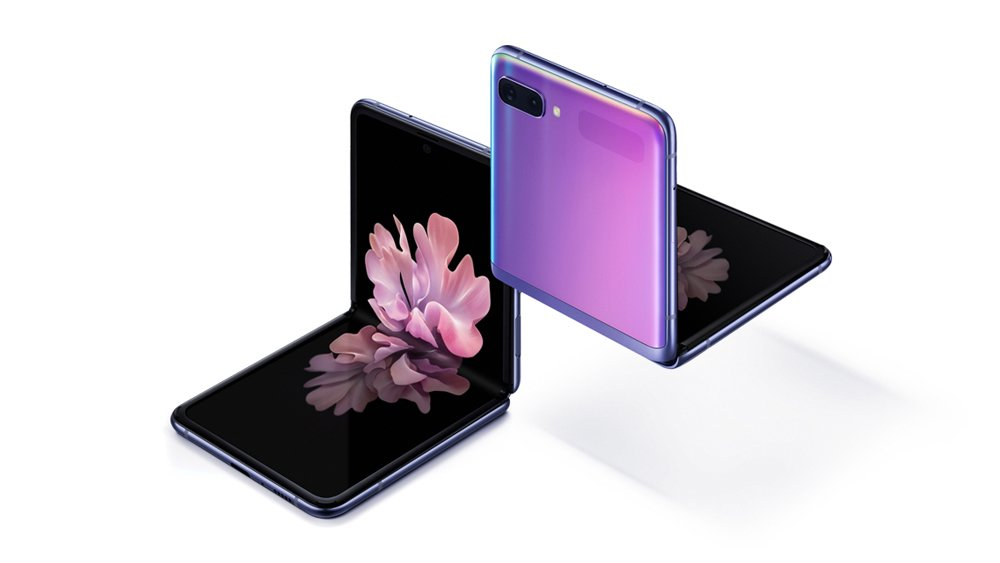Phone: (168, 96, 526, 522), (487, 42, 834, 374)
